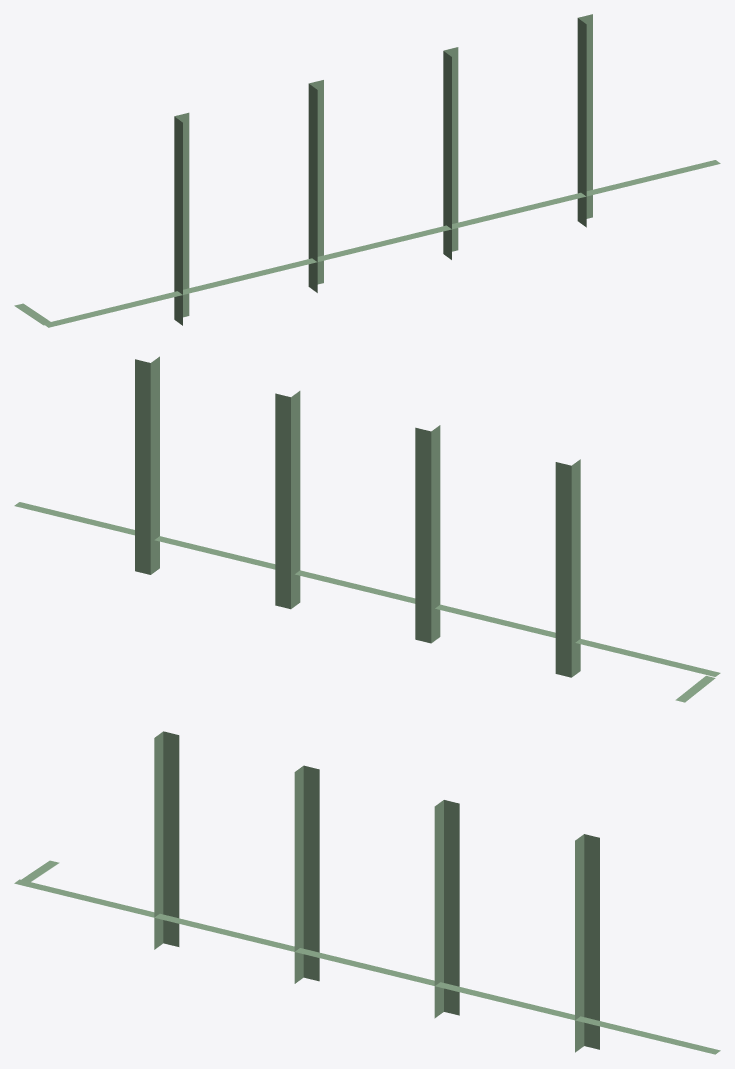
Rendered from HYDROLIC_DRAIN_TK.glb.
The picture shows the model from 3 angles, top to bottom: view 1: azimuth 30°, elevation 25°; view 2: azimuth 150°, elevation 25°; view 3: azimuth 330°, elevation 25°; orthographic projection. The views are drawn at different scales.
Visible parts, largest first — view 1: FP_L7SectionxEPRP_007001-T_125x10_NVA_1993, ST_L7SectionxEPRPxWeb_021001-IA_101.6x101.6x9.52x9.52_NVA_19, ST_L7SectionxEPRPxWeb_012001-IA_101.6x101.6x9.52x9.52_NVA_19, ST_L7SectionxEPRPxWeb_019001-IA_101.6x101.6x9.52x9.52_NVA_19, ST_L7SectionxEPRPxWeb_017001-IA_101.6x101.6x9.52x9.52_NVA_19, ST_L7SectionxEPRPxFLG_002001-IA_101.6x101.6x9.52x9.52_NVA_19, ST_L7SectionxEPRPxFLG_037001-IA_101.6x101.6x9.52x9.52_NVA_19, ST_L7SectionxEPRPxFLG_027001-IA_101.6x101.6x9.52x9.52_NVA_19, ST_L7SectionxEPRPxFLG_043001-IA_101.6x101.6x9.52x9.52_NVA_19; view 2: FP_L7SectionxEPRP_007001-T_125x10_NVA_1993, ST_L7SectionxEPRPxFLG_002001-IA_101.6x101.6x9.52x9.52_NVA_19, ST_L7SectionxEPRPxFLG_027001-IA_101.6x101.6x9.52x9.52_NVA_19, ST_L7SectionxEPRPxFLG_037001-IA_101.6x101.6x9.52x9.52_NVA_19, ST_L7SectionxEPRPxFLG_043001-IA_101.6x101.6x9.52x9.52_NVA_19, ST_L7SectionxEPRPxWeb_012001-IA_101.6x101.6x9.52x9.52_NVA_19, ST_L7SectionxEPRPxWeb_019001-IA_101.6x101.6x9.52x9.52_NVA_19, ST_L7SectionxEPRPxWeb_021001-IA_101.6x101.6x9.52x9.52_NVA_19, ST_L7SectionxEPRPxWeb_017001-IA_101.6x101.6x9.52x9.52_NVA_19; view 3: FP_L7SectionxEPRP_007001-T_125x10_NVA_1993, ST_L7SectionxEPRPxFLG_002001-IA_101.6x101.6x9.52x9.52_NVA_19, ST_L7SectionxEPRPxFLG_027001-IA_101.6x101.6x9.52x9.52_NVA_19, ST_L7SectionxEPRPxFLG_043001-IA_101.6x101.6x9.52x9.52_NVA_19, ST_L7SectionxEPRPxFLG_037001-IA_101.6x101.6x9.52x9.52_NVA_19, ST_L7SectionxEPRPxWeb_017001-IA_101.6x101.6x9.52x9.52_NVA_19, ST_L7SectionxEPRPxWeb_021001-IA_101.6x101.6x9.52x9.52_NVA_19, ST_L7SectionxEPRPxWeb_012001-IA_101.6x101.6x9.52x9.52_NVA_19, ST_L7SectionxEPRPxWeb_019001-IA_101.6x101.6x9.52x9.52_NVA_19.
Part boxes in pixels (x1,y1,x2,y2): FP_L7SectionxEPRP_007001-T_125x10_NVA_1993: (43,160,720,327); ST_L7SectionxEPRPxWeb_021001-IA_101.6x101.6x9.52x9.52_NVA_19: (308,84,317,292); ST_L7SectionxEPRPxWeb_012001-IA_101.6x101.6x9.52x9.52_NVA_19: (577,18,586,227); ST_L7SectionxEPRPxWeb_019001-IA_101.6x101.6x9.52x9.52_NVA_19: (174,116,182,325); ST_L7SectionxEPRPxWeb_017001-IA_101.6x101.6x9.52x9.52_NVA_19: (443,51,451,259); ST_L7SectionxEPRPxFLG_002001-IA_101.6x101.6x9.52x9.52_NVA_19: (174,112,189,317); ST_L7SectionxEPRPxFLG_037001-IA_101.6x101.6x9.52x9.52_NVA_19: (443,47,458,251); ST_L7SectionxEPRPxFLG_027001-IA_101.6x101.6x9.52x9.52_NVA_19: (309,80,323,284); ST_L7SectionxEPRPxFLG_043001-IA_101.6x101.6x9.52x9.52_NVA_19: (578,14,592,218); FP_L7SectionxEPRP_007001-T_125x10_NVA_1993: (14,502,720,676); ST_L7SectionxEPRPxFLG_002001-IA_101.6x101.6x9.52x9.52_NVA_19: (555,462,571,677); ST_L7SectionxEPRPxFLG_027001-IA_101.6x101.6x9.52x9.52_NVA_19: (415,427,431,643); ST_L7SectionxEPRPxFLG_037001-IA_101.6x101.6x9.52x9.52_NVA_19: (275,393,290,609); ST_L7SectionxEPRPxFLG_043001-IA_101.6x101.6x9.52x9.52_NVA_19: (135,359,150,574); ST_L7SectionxEPRPxWeb_012001-IA_101.6x101.6x9.52x9.52_NVA_19: (150,356,159,574); ST_L7SectionxEPRPxWeb_019001-IA_101.6x101.6x9.52x9.52_NVA_19: (571,459,580,677); ST_L7SectionxEPRPxWeb_021001-IA_101.6x101.6x9.52x9.52_NVA_19: (431,425,440,642); ST_L7SectionxEPRPxWeb_017001-IA_101.6x101.6x9.52x9.52_NVA_19: (291,391,300,608); FP_L7SectionxEPRP_007001-T_125x10_NVA_1993: (14,879,720,1054); ST_L7SectionxEPRPxFLG_002001-IA_101.6x101.6x9.52x9.52_NVA_19: (163,731,179,946); ST_L7SectionxEPRPxFLG_027001-IA_101.6x101.6x9.52x9.52_NVA_19: (303,765,319,981); ST_L7SectionxEPRPxFLG_043001-IA_101.6x101.6x9.52x9.52_NVA_19: (584,834,599,1049); ST_L7SectionxEPRPxFLG_037001-IA_101.6x101.6x9.52x9.52_NVA_19: (444,800,459,1015); ST_L7SectionxEPRPxWeb_017001-IA_101.6x101.6x9.52x9.52_NVA_19: (434,800,443,1018); ST_L7SectionxEPRPxWeb_021001-IA_101.6x101.6x9.52x9.52_NVA_19: (294,766,303,983); ST_L7SectionxEPRPxWeb_012001-IA_101.6x101.6x9.52x9.52_NVA_19: (575,834,584,1052); ST_L7SectionxEPRPxWeb_019001-IA_101.6x101.6x9.52x9.52_NVA_19: (154,732,163,949).
Size of the model in its own units: 4.5 by 1.3 by 0.4.
